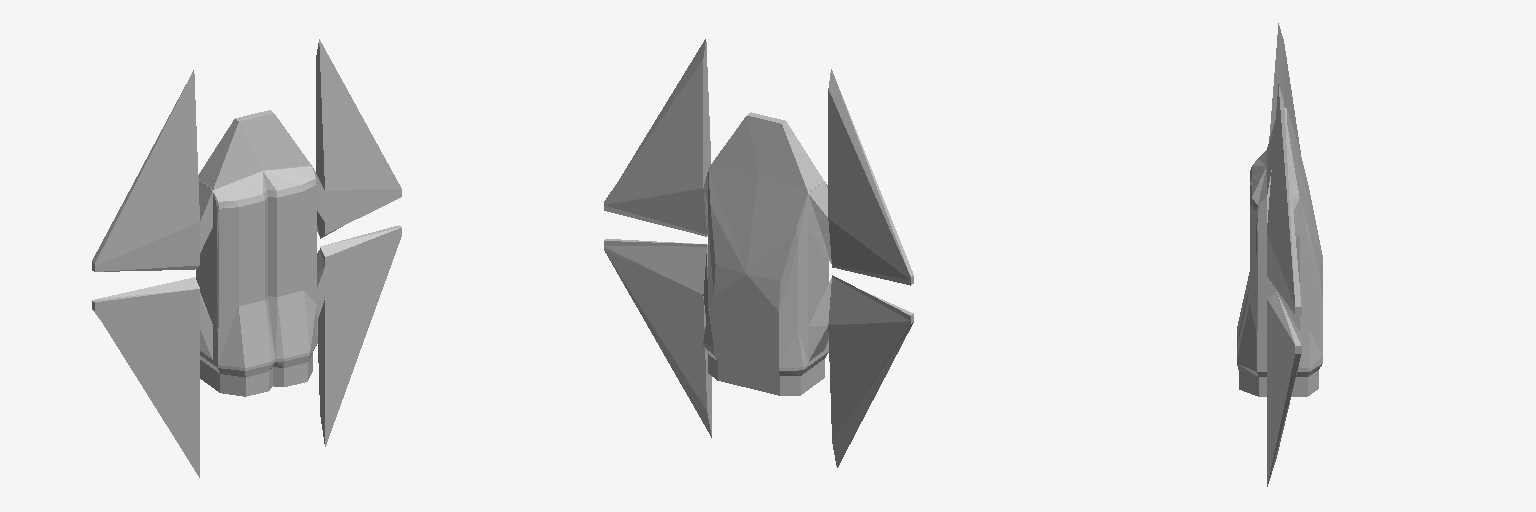
Rendered from Combined.obj.
3 renders of one model, left to right at view 1: azimuth 30°, elevation 25°; view 2: azimuth 150°, elevation 25°; view 3: azimuth 270°, elevation 25°, orthographic.
Parts seen in each view (by area): view 1: Combined_Ship_Untitled; view 2: Combined_Ship_Untitled; view 3: Combined_Ship_Untitled.
Boxes of the visible parts, box(x1,y1,x2,y2) form: Combined_Ship_Untitled: box(92, 39, 401, 477); Combined_Ship_Untitled: box(604, 39, 913, 467); Combined_Ship_Untitled: box(1237, 23, 1322, 486).
Size of the model in its own units: 1.08 by 1.36 by 0.263.